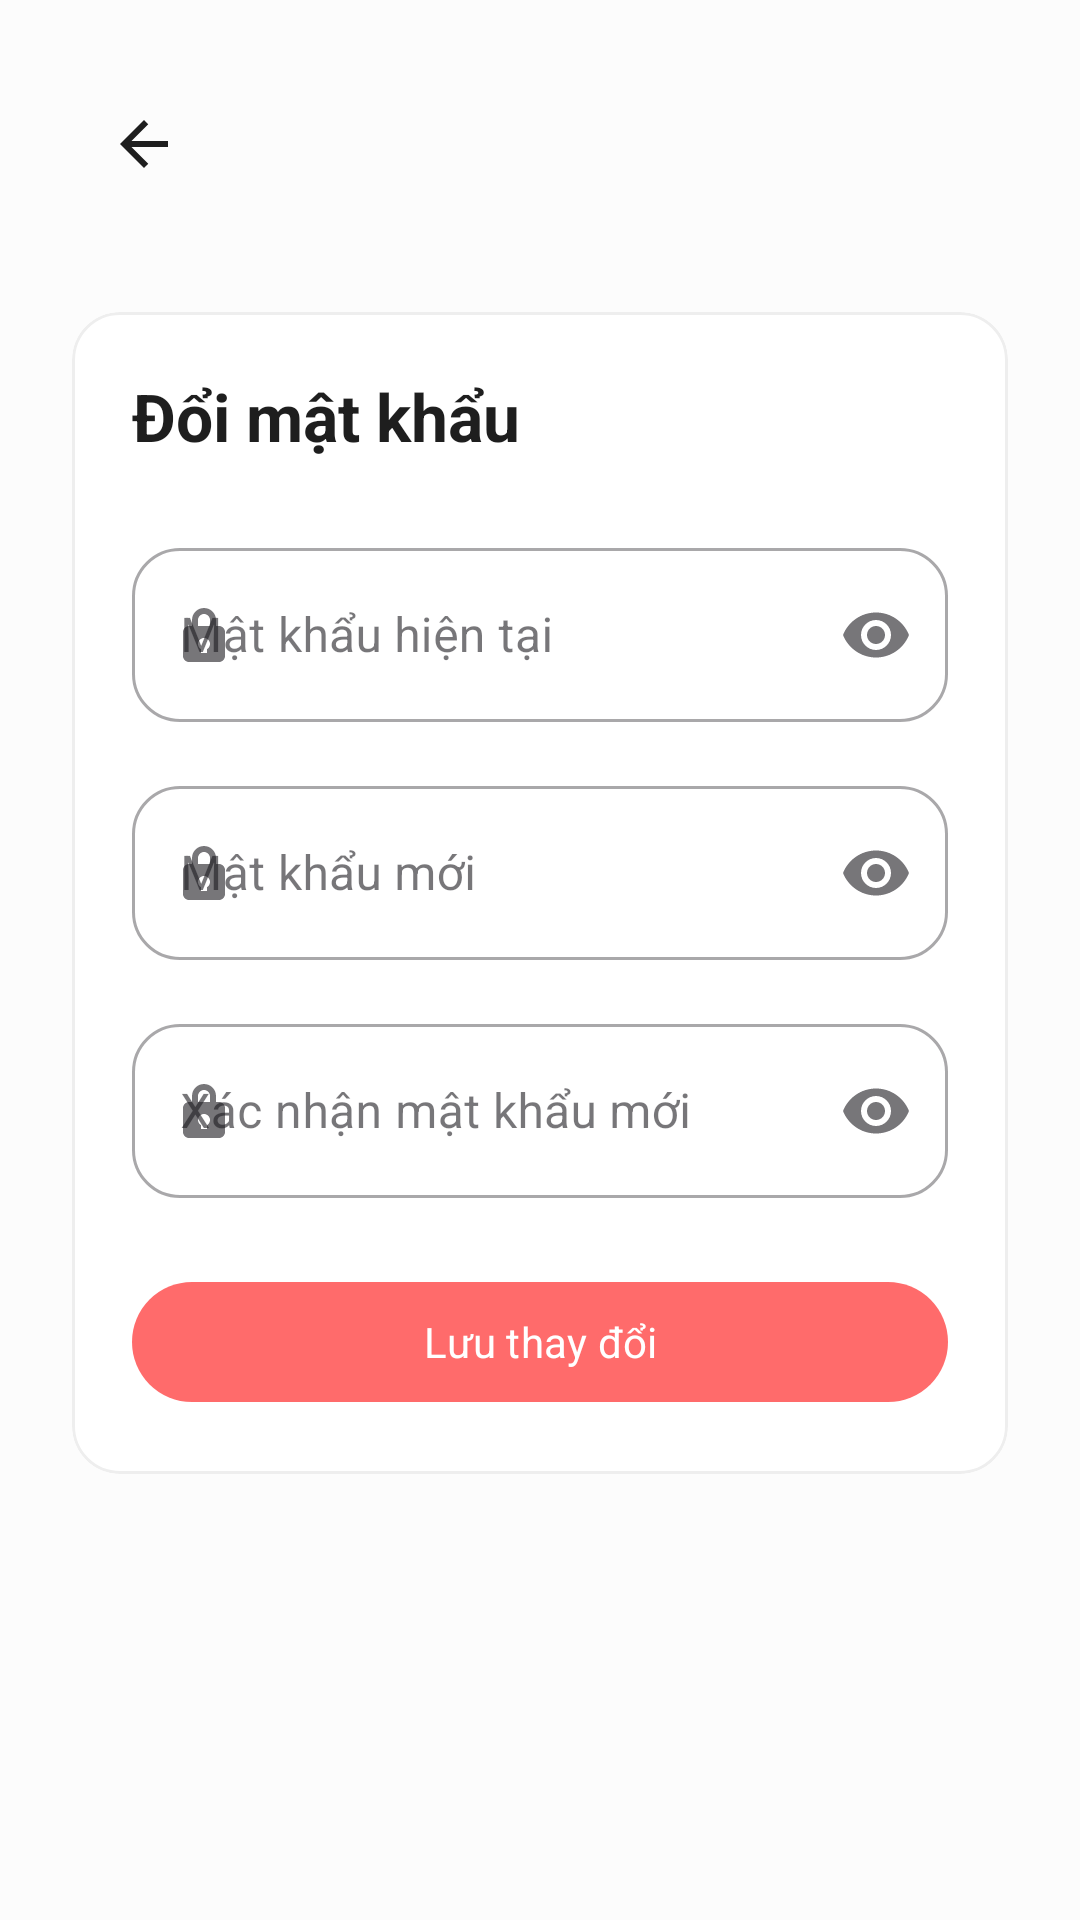

Icons on this 1080px x 1920px Android screen, each with the point to tap as [x,y]:
Quay lại: [144,144]
